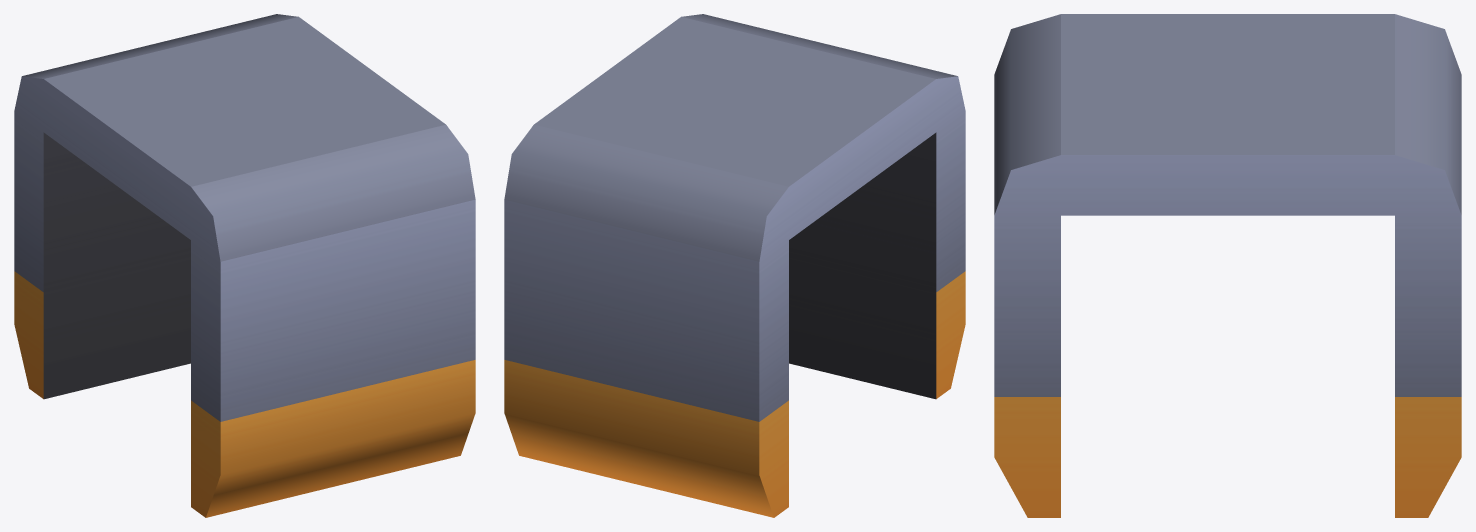
The picture shows the model from 3 angles, left to right: view 1: azimuth 30°, elevation 25°; view 2: azimuth 150°, elevation 25°; view 3: azimuth 270°, elevation 25°; orthographic projection. The views are drawn at different scales.
Parts seen in each view (by area): view 1: cover_stripe; view 2: cover_stripe; view 3: cover_stripe.
Part boxes in pixels (<box>): cover_stripe: <box>14,14,475,517</box>; cover_stripe: <box>504,14,965,517</box>; cover_stripe: <box>994,14,1461,517</box>.
Size of the model in its own units: 1 by 1.2 by 1.4.
Materials: 1 (1 with a texture image).
